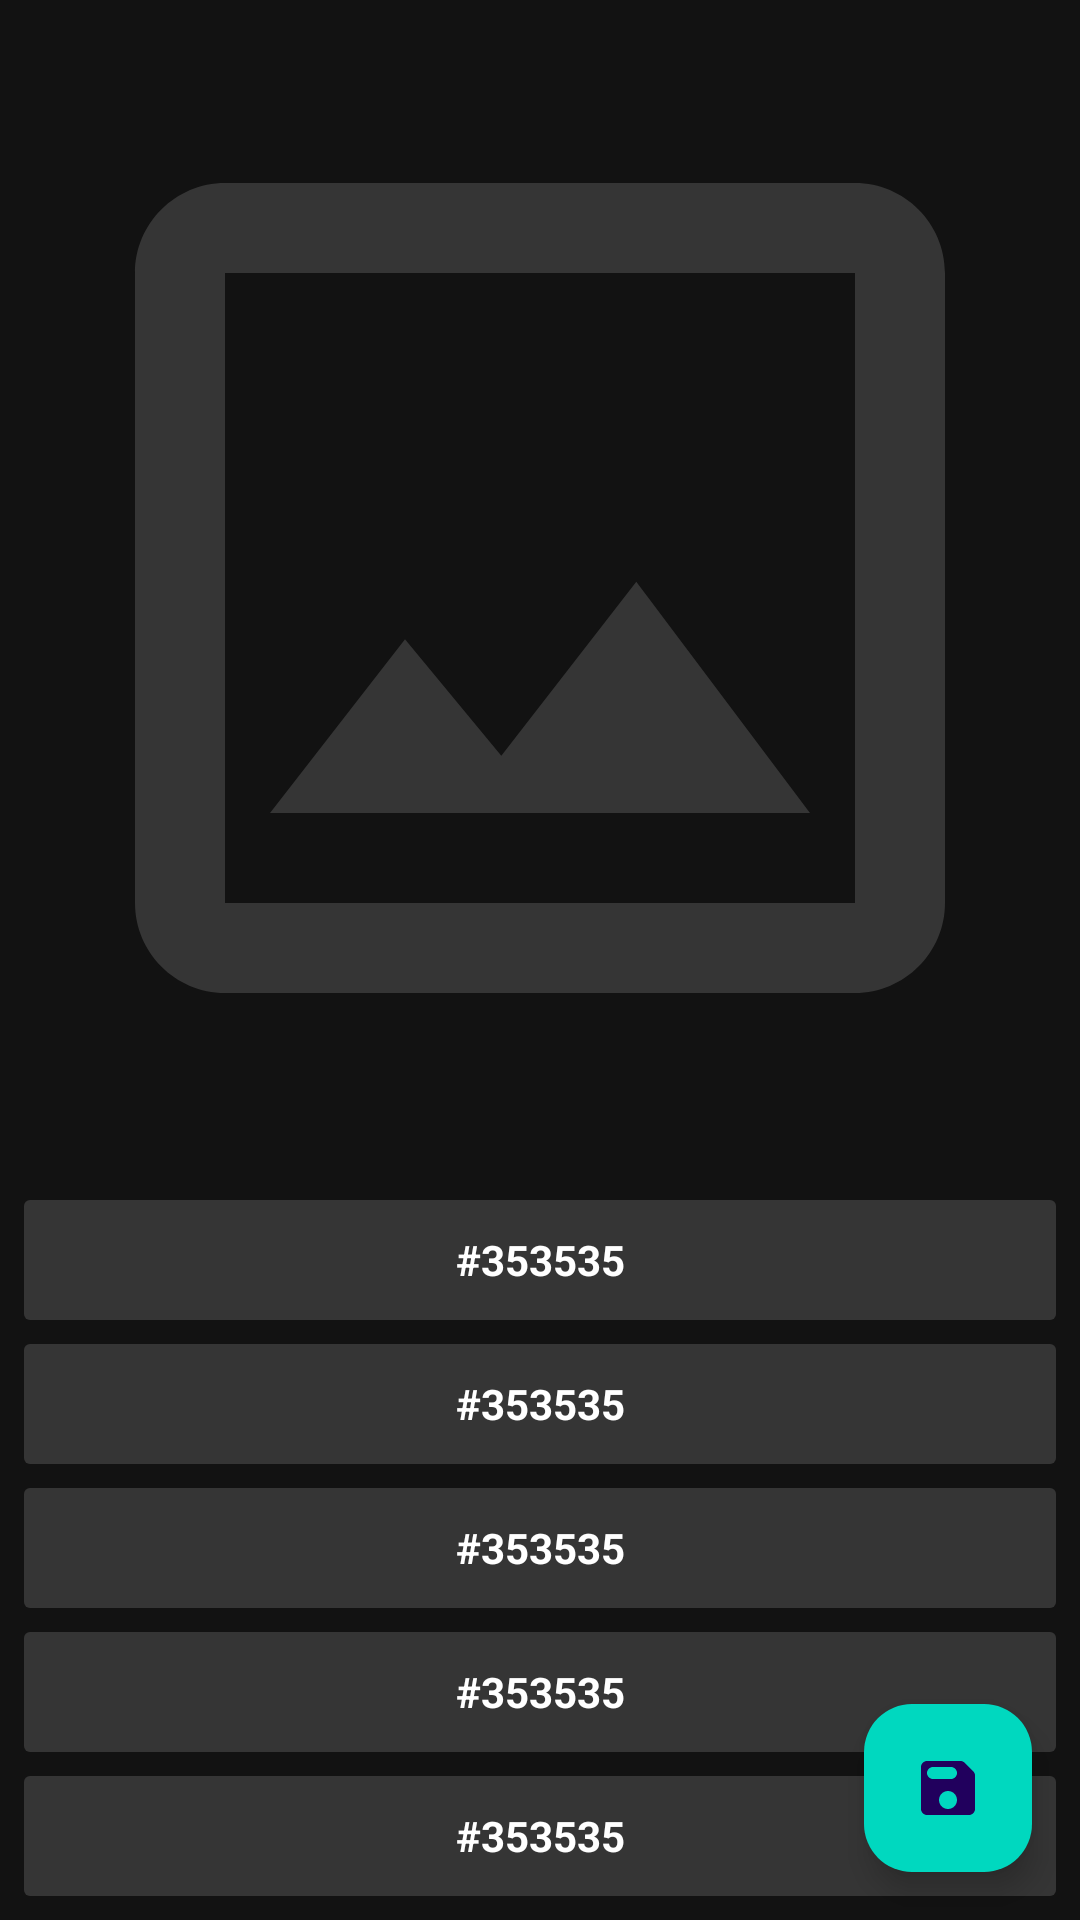

Icons on this 1080 x 1920 Android screen, each with the point to tap as point (x, y):
save round: point (948, 1788)
